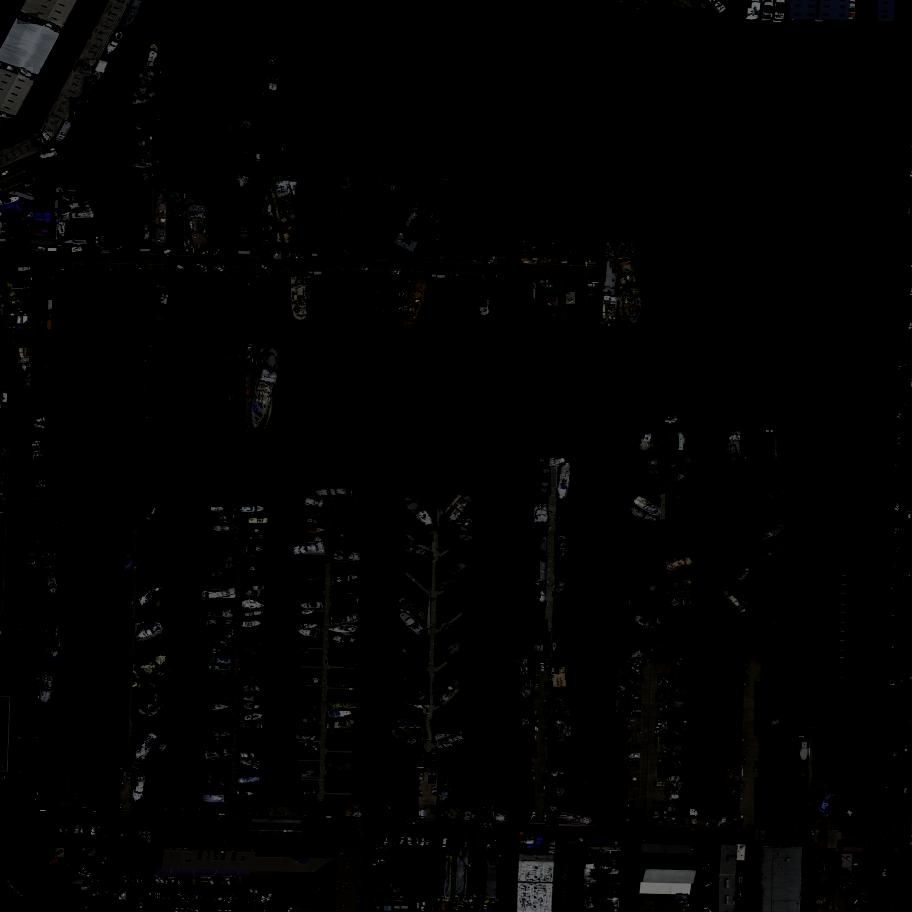large-vehicle: (887, 792, 900, 815), (567, 292, 576, 304), (176, 264, 186, 273), (165, 248, 175, 256), (17, 268, 32, 273), (690, 819, 696, 828), (255, 155, 260, 162), (422, 810, 424, 819)
ship: (391, 160, 461, 256), (338, 168, 402, 250), (418, 180, 472, 255), (246, 347, 285, 435), (329, 163, 364, 252), (269, 170, 306, 251), (612, 239, 645, 327), (40, 411, 77, 479), (498, 280, 536, 346), (451, 281, 488, 345), (514, 235, 594, 264), (217, 374, 252, 438), (400, 277, 433, 338), (148, 273, 185, 325), (599, 240, 621, 326), (755, 681, 788, 737), (368, 277, 400, 334), (40, 483, 72, 537), (167, 188, 195, 248), (386, 277, 416, 332), (504, 773, 535, 825), (642, 408, 699, 436), (152, 187, 177, 248), (548, 695, 576, 747), (403, 492, 438, 533), (222, 328, 252, 374), (257, 190, 280, 250), (185, 195, 211, 248), (260, 115, 283, 174), (229, 110, 259, 154), (810, 849, 836, 899), (40, 552, 65, 604), (754, 777, 779, 828), (306, 278, 334, 321), (844, 783, 866, 837), (757, 606, 790, 641), (232, 155, 260, 196), (50, 338, 69, 398), (436, 560, 469, 593), (400, 596, 431, 631), (134, 652, 172, 680), (237, 59, 258, 109), (435, 634, 472, 662), (41, 622, 64, 667), (758, 537, 791, 568), (400, 674, 431, 706), (721, 517, 755, 545), (291, 278, 312, 323), (474, 280, 494, 327), (514, 708, 535, 752), (390, 727, 424, 754), (395, 717, 431, 742), (144, 588, 173, 619), (724, 469, 757, 496), (435, 712, 461, 746), (527, 619, 549, 659), (398, 612, 428, 641), (408, 482, 438, 511), (131, 695, 162, 723), (446, 494, 473, 526), (133, 731, 160, 763), (145, 738, 172, 770), (666, 585, 695, 614), (758, 519, 790, 545), (634, 494, 666, 520), (87, 772, 110, 808), (394, 652, 427, 677), (724, 756, 743, 799), (140, 668, 169, 696), (440, 521, 466, 552), (630, 503, 663, 527), (629, 598, 662, 622), (401, 542, 436, 564), (632, 584, 659, 612), (723, 587, 749, 616), (759, 486, 793, 508), (672, 455, 695, 487), (219, 123, 240, 158), (436, 678, 462, 706), (478, 807, 514, 827), (35, 751, 54, 788), (92, 232, 131, 250), (264, 56, 280, 98), (140, 504, 164, 531), (518, 659, 534, 699), (60, 196, 93, 215), (55, 119, 77, 147), (103, 30, 125, 58), (137, 583, 165, 605), (400, 695, 429, 716), (557, 463, 573, 501), (560, 810, 595, 827), (330, 612, 365, 629), (61, 206, 95, 223), (666, 744, 685, 774), (132, 773, 149, 806), (613, 654, 633, 682), (537, 462, 553, 497), (236, 204, 251, 241), (669, 804, 703, 820), (326, 760, 358, 777), (292, 543, 326, 559), (614, 680, 632, 710), (667, 713, 685, 743), (135, 623, 163, 642), (436, 734, 465, 752), (669, 487, 699, 504), (202, 587, 236, 602), (635, 614, 660, 634), (332, 550, 365, 565), (646, 456, 663, 485), (546, 786, 563, 815), (818, 789, 835, 818), (440, 808, 477, 821), (669, 682, 685, 712), (631, 580, 663, 595), (439, 775, 455, 805), (39, 675, 55, 705), (143, 70, 159, 100), (143, 42, 159, 72), (664, 579, 698, 593), (328, 698, 359, 713), (612, 784, 628, 813), (554, 533, 570, 562), (91, 59, 111, 82), (543, 311, 578, 324), (135, 66, 149, 98), (729, 536, 752, 555), (612, 749, 628, 776), (667, 558, 694, 574), (316, 487, 352, 499), (670, 655, 685, 683), (334, 499, 362, 514), (638, 427, 654, 453), (70, 96, 86, 122), (778, 427, 792, 456), (330, 645, 359, 659), (209, 643, 236, 658), (205, 599, 236, 612), (329, 719, 360, 732), (334, 530, 365, 543), (551, 666, 569, 688), (667, 775, 681, 803), (558, 5, 586, 19), (208, 616, 236, 630), (208, 653, 236, 667), (206, 756, 232, 771), (330, 573, 362, 585), (669, 522, 689, 541), (663, 641, 692, 654), (726, 431, 739, 460), (209, 634, 234, 649), (533, 502, 550, 524), (208, 607, 236, 620), (38, 715, 51, 742), (297, 702, 322, 716), (326, 773, 355, 785), (553, 577, 568, 600), (210, 625, 233, 640), (237, 757, 261, 771), (83, 76, 98, 98), (205, 748, 231, 760), (207, 775, 231, 788), (303, 497, 325, 511), (211, 562, 239, 573), (148, 705, 167, 721), (240, 674, 265, 686), (209, 674, 236, 685), (56, 218, 70, 239), (243, 598, 267, 610), (32, 133, 50, 149), (55, 779, 68, 801), (331, 594, 357, 605), (616, 714, 627, 739), (299, 583, 324, 594), (328, 709, 353, 720), (239, 703, 264, 714), (18, 12, 39, 25), (699, 1, 715, 18), (24, 177, 41, 193), (365, 810, 395, 819), (796, 771, 810, 790), (130, 134, 141, 158), (549, 756, 559, 782), (44, 21, 62, 35), (738, 566, 752, 584), (240, 693, 261, 705), (123, 548, 133, 573), (298, 770, 320, 781), (537, 533, 549, 553), (799, 735, 808, 761), (233, 506, 266, 513), (239, 743, 260, 754), (298, 629, 321, 639), (346, 808, 365, 820), (332, 637, 357, 646), (760, 463, 780, 474), (557, 506, 567, 528), (38, 151, 58, 162), (304, 565, 326, 575), (297, 722, 319, 732), (298, 696, 320, 706), (61, 238, 88, 246), (241, 713, 265, 722), (441, 623, 456, 637), (461, 516, 475, 531), (73, 59, 89, 72), (18, 67, 34, 80), (135, 718, 151, 731), (303, 574, 326, 583), (238, 777, 261, 786), (209, 554, 234, 562), (248, 534, 268, 544), (206, 703, 231, 711), (60, 193, 78, 204), (239, 722, 261, 731), (243, 684, 261, 695), (203, 796, 225, 805), (668, 459, 682, 473), (245, 545, 264, 555), (31, 222, 52, 231), (298, 789, 319, 798), (140, 134, 148, 157), (414, 534, 427, 548), (419, 483, 432, 497), (206, 731, 232, 738), (244, 639, 262, 649), (328, 627, 358, 633), (241, 610, 263, 618), (214, 534, 236, 542), (207, 694, 232, 701), (327, 729, 344, 739), (305, 517, 326, 525), (208, 786, 229, 794), (460, 535, 475, 546), (129, 162, 152, 169), (299, 602, 322, 609), (301, 536, 324, 543), (530, 563, 540, 579), (214, 526, 234, 534), (433, 683, 445, 696), (608, 730, 620, 743), (688, 9, 701, 21), (22, 371, 36, 382), (549, 457, 566, 466), (245, 527, 262, 536), (296, 734, 317, 741), (208, 742, 229, 749), (247, 553, 263, 562), (304, 622, 320, 631), (239, 752, 255, 761), (647, 644, 658, 657), (533, 579, 547, 589), (81, 782, 88, 802), (68, 784, 76, 801), (246, 590, 261, 599), (32, 188, 47, 197), (303, 641, 322, 648), (407, 714, 418, 726), (630, 650, 643, 660), (53, 186, 67, 195), (242, 621, 263, 627), (801, 790, 811, 802), (133, 762, 143, 774), (42, 131, 52, 143), (248, 565, 265, 572), (301, 716, 318, 723), (237, 790, 254, 797), (301, 678, 320, 684), (133, 124, 149, 131), (303, 611, 317, 619), (412, 710, 422, 721), (420, 671, 430, 682), (557, 788, 567, 799), (541, 322, 553, 331), (210, 666, 231, 671), (640, 644, 650, 654), (307, 529, 327, 534), (430, 752, 439, 763), (584, 11, 595, 20), (18, 356, 30, 364), (131, 100, 150, 105), (299, 743, 318, 748), (539, 590, 546, 603), (133, 93, 146, 100), (26, 362, 35, 372), (143, 226, 149, 241), (301, 649, 316, 655), (333, 682, 350, 687), (665, 627, 677, 634), (344, 662, 356, 669), (155, 693, 164, 702), (322, 799, 330, 809), (28, 348, 36, 358), (219, 515, 235, 520), (251, 585, 264, 591), (278, 142, 285, 153), (241, 649, 265, 652), (0, 223, 7, 233), (351, 805, 362, 811), (681, 690, 688, 699), (212, 507, 224, 512), (420, 754, 427, 762), (143, 175, 150, 182), (377, 806, 389, 810), (26, 379, 32, 387), (685, 601, 694, 606), (131, 130, 146, 133), (553, 644, 558, 652), (211, 573, 223, 576), (138, 616, 141, 626), (541, 459, 547, 463), (687, 430, 695, 433), (189, 562, 191, 565)
small-vehicle: (547, 297, 559, 309), (260, 265, 273, 275), (470, 256, 483, 266), (631, 694, 643, 704), (408, 254, 420, 264), (363, 254, 375, 264), (25, 212, 35, 223), (76, 867, 88, 876), (95, 892, 104, 904), (631, 702, 641, 712), (656, 693, 666, 703), (340, 267, 350, 277), (15, 889, 25, 899), (56, 848, 66, 858), (636, 658, 647, 667), (658, 678, 667, 689), (113, 246, 124, 255), (293, 267, 304, 276), (208, 876, 217, 887), (48, 857, 59, 866), (75, 262, 89, 269), (657, 673, 669, 681), (753, 761, 761, 773), (584, 259, 596, 267), (199, 250, 211, 258), (89, 891, 101, 899), (356, 265, 369, 272), (249, 888, 262, 895), (634, 662, 644, 671), (657, 764, 667, 773), (488, 256, 497, 266), (214, 265, 224, 274), (2, 877, 12, 886), (116, 901, 126, 910), (101, 858, 110, 868), (114, 889, 123, 899), (629, 761, 640, 769), (446, 840, 454, 851), (72, 878, 83, 886), (161, 891, 169, 902), (676, 894, 688, 901), (35, 404, 47, 411), (390, 269, 402, 276), (657, 771, 666, 780), (658, 704, 667, 713), (212, 249, 221, 258), (29, 902, 38, 911), (8, 884, 17, 893), (81, 870, 90, 879), (105, 886, 114, 895), (106, 897, 115, 906), (544, 682, 552, 692), (533, 679, 541, 689), (429, 775, 437, 785), (902, 604, 910, 614), (902, 785, 910, 795), (702, 865, 712, 873), (197, 264, 207, 272), (181, 893, 189, 903), (185, 893, 193, 903), (89, 848, 97, 858), (160, 876, 168, 886), (544, 697, 551, 708), (458, 840, 465, 851), (24, 798, 31, 809), (632, 675, 644, 681), (84, 875, 96, 881), (272, 895, 280, 904), (429, 837, 437, 846), (658, 687, 667, 695), (705, 881, 714, 889), (541, 283, 553, 289), (31, 430, 43, 436), (135, 263, 144, 271), (506, 257, 515, 265), (300, 252, 308, 261), (22, 897, 31, 905), (25, 859, 34, 867), (129, 900, 137, 909), (222, 894, 230, 903), (82, 844, 90, 853), (96, 856, 104, 865), (149, 876, 157, 885), (120, 892, 128, 901), (430, 805, 437, 815), (449, 256, 459, 263), (389, 255, 399, 262), (85, 826, 92, 836), (631, 668, 642, 674), (366, 820, 377, 826), (35, 412, 46, 418), (485, 272, 496, 278), (35, 424, 46, 430), (29, 776, 35, 787), (397, 256, 408, 262), (658, 757, 666, 765), (111, 900, 119, 908), (237, 894, 244, 903), (400, 837, 407, 846), (426, 902, 433, 911), (895, 804, 902, 813), (894, 845, 901, 854), (704, 905, 713, 912), (58, 827, 65, 836), (18, 825, 25, 834), (223, 252, 232, 259), (101, 247, 110, 254), (274, 253, 283, 260), (288, 251, 295, 260), (227, 895, 234, 904), (217, 877, 224, 886), (181, 877, 188, 886), (155, 875, 162, 884), (896, 436, 902, 446), (894, 502, 900, 512), (656, 719, 662, 729), (678, 900, 688, 906), (538, 288, 548, 294), (539, 274, 551, 279), (35, 484, 45, 490), (530, 773, 537, 781), (468, 903, 475, 911), (899, 844, 906, 852), (384, 270, 391, 278), (334, 268, 341, 276), (270, 251, 277, 259), (235, 877, 242, 885), (166, 892, 173, 900), (222, 878, 229, 886), (733, 901, 744, 906), (673, 821, 684, 826), (26, 525, 37, 530), (20, 277, 31, 282), (632, 685, 641, 691), (632, 744, 641, 750), (737, 819, 743, 828), (635, 902, 644, 908), (499, 850, 505, 859), (243, 895, 249, 904), (885, 781, 891, 790), (631, 753, 640, 759), (727, 818, 733, 827), (704, 859, 713, 865), (901, 822, 907, 831), (233, 894, 239, 903), (37, 245, 46, 251), (218, 893, 224, 902), (213, 893, 219, 902), (119, 827, 125, 836), (81, 885, 90, 891), (889, 717, 894, 727), (896, 408, 901, 418), (705, 854, 715, 859), (678, 903, 688, 908), (176, 886, 186, 891), (231, 877, 238, 884), (654, 802, 666, 806), (439, 903, 445, 911), (409, 901, 415, 909), (267, 895, 273, 903), (633, 713, 641, 719), (891, 611, 897, 619), (893, 481, 899, 489), (898, 764, 904, 772), (40, 826, 46, 834), (29, 494, 41, 498), (8, 238, 14, 246), (227, 878, 233, 886), (134, 876, 140, 884), (905, 568, 910, 577), (901, 656, 906, 665), (906, 696, 911, 705), (586, 291, 595, 296), (67, 860, 78, 864), (383, 838, 389, 845), (733, 897, 741, 902), (732, 820, 737, 828), (379, 859, 387, 864), (900, 719, 905, 727), (893, 748, 898, 756), (886, 754, 890, 764), (734, 893, 742, 898), (810, 826, 815, 834), (741, 755, 746, 763), (29, 635, 39, 639), (65, 873, 75, 877), (152, 891, 157, 899), (195, 894, 200, 902), (59, 868, 69, 872), (114, 829, 119, 837), (177, 877, 182, 885), (123, 875, 128, 883), (389, 836, 393, 845), (403, 820, 412, 824), (540, 280, 549, 284), (22, 694, 26, 703), (52, 828, 56, 837), (123, 885, 132, 889), (534, 693, 539, 700), (532, 751, 537, 758), (435, 903, 440, 910), (414, 834, 419, 841), (464, 840, 469, 847), (891, 583, 896, 590), (900, 533, 905, 540), (705, 820, 710, 827), (900, 873, 905, 880), (223, 265, 228, 272), (177, 892, 182, 899), (144, 876, 149, 883), (544, 734, 548, 742), (474, 903, 478, 911), (534, 723, 538, 731), (422, 902, 426, 910), (883, 866, 887, 874), (75, 826, 79, 834), (126, 828, 130, 836), (103, 827, 107, 835), (165, 877, 169, 885), (531, 811, 536, 817), (407, 838, 412, 844), (894, 547, 899, 553), (900, 334, 905, 340), (463, 904, 467, 911), (542, 774, 546, 781), (450, 903, 454, 910), (254, 894, 258, 901), (431, 902, 435, 909), (416, 902, 420, 909), (474, 838, 478, 845), (426, 837, 430, 844), (421, 837, 425, 844), (907, 207, 911, 214), (903, 399, 907, 406), (717, 820, 721, 827), (655, 730, 662, 734), (40, 320, 44, 327), (33, 441, 40, 445), (157, 892, 161, 899), (139, 902, 143, 909), (91, 828, 95, 835), (80, 827, 84, 834), (140, 877, 144, 884), (36, 418, 45, 421), (242, 262, 251, 265), (196, 877, 199, 886), (92, 881, 101, 884), (633, 710, 641, 713), (540, 664, 544, 670), (542, 784, 546, 790), (533, 742, 537, 748), (376, 847, 384, 850), (377, 838, 381, 844), (452, 841, 455, 849), (893, 564, 897, 570), (901, 674, 904, 682), (906, 546, 910, 552), (898, 365, 902, 371), (247, 894, 251, 900), (587, 283, 595, 286), (26, 560, 34, 563), (31, 684, 35, 690), (31, 446, 39, 449), (260, 252, 268, 255), (64, 828, 68, 834), (245, 879, 248, 887), (132, 893, 136, 899), (191, 894, 194, 902), (136, 900, 140, 906), (172, 877, 175, 885), (34, 478, 45, 480), (480, 842, 483, 849), (494, 844, 497, 851), (487, 842, 490, 849), (889, 679, 892, 686), (895, 459, 898, 466), (539, 293, 546, 296), (207, 894, 210, 901), (445, 903, 449, 908), (891, 644, 895, 649), (908, 718, 912, 723), (722, 818, 726, 823), (655, 782, 665, 784), (32, 455, 42, 457), (421, 775, 424, 781), (433, 786, 435, 795), (395, 839, 398, 845), (262, 896, 265, 902), (900, 904, 903, 910), (884, 835, 887, 841), (585, 297, 591, 300), (539, 297, 548, 299), (149, 892, 152, 898), (187, 877, 190, 883), (895, 526, 897, 534), (904, 286, 906, 294), (906, 359, 908, 367), (33, 451, 41, 453), (377, 256, 385, 258), (98, 827, 101, 832), (436, 838, 438, 845), (906, 745, 908, 752), (459, 903, 461, 909), (894, 873, 897, 877), (539, 303, 545, 305), (454, 903, 456, 908), (744, 675, 746, 680), (683, 909, 688, 911), (379, 866, 388, 867), (531, 268, 540, 269), (30, 547, 37, 548)
